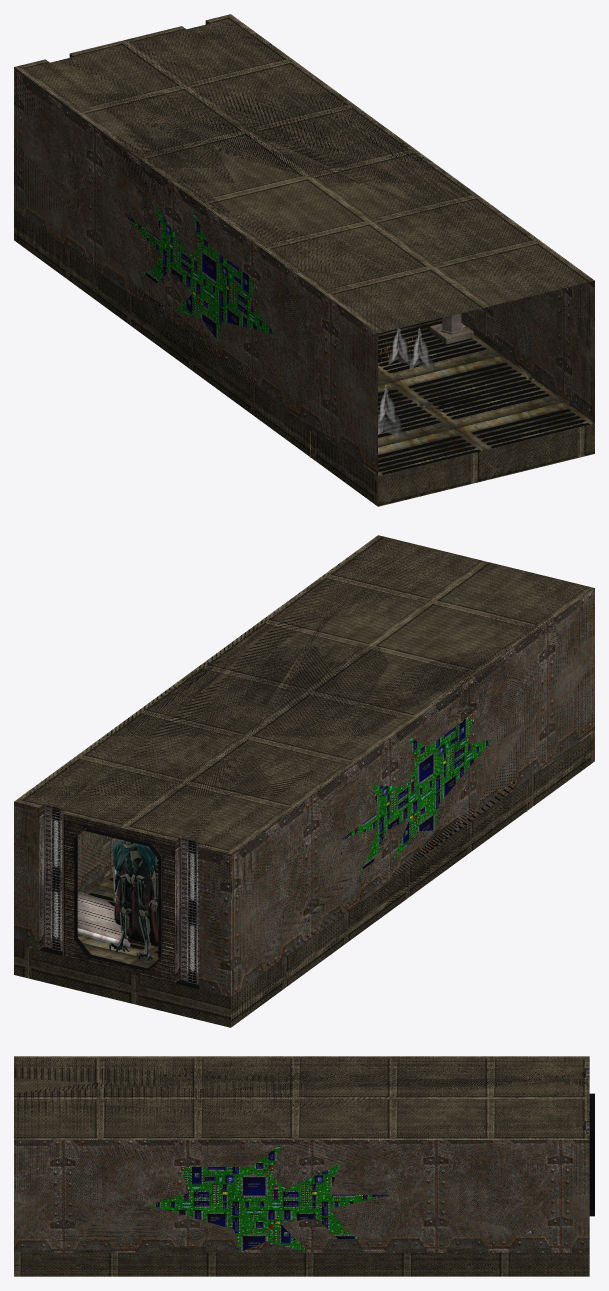
3 views of the same model, one above another, from view 1: azimuth 30°, elevation 25°; view 2: azimuth 150°, elevation 25°; view 3: azimuth 270°, elevation 25° (orthographic). The views are drawn at different scales.
Parts seen in each view (by area): view 1: Imaginary_Star_Wars_Scene (×6); view 2: Imaginary_Star_Wars_Scene (×8), Component_5, Group_3; view 3: Imaginary_Star_Wars_Scene (×5).
Boxes of the visible parts, x1,y1,x2,y2 form: Imaginary_Star_Wars_Scene (×6): (14,14,594,506); Imaginary_Star_Wars_Scene (×8): (14,535,594,1027); Component_5: (109,840,158,960); Group_3: (77,892,130,948); Imaginary_Star_Wars_Scene (×5): (14,1056,594,1276).
Size of the model in its own units: 555 by 1618 by 435.
Materials: 16 (13 with a texture image).
